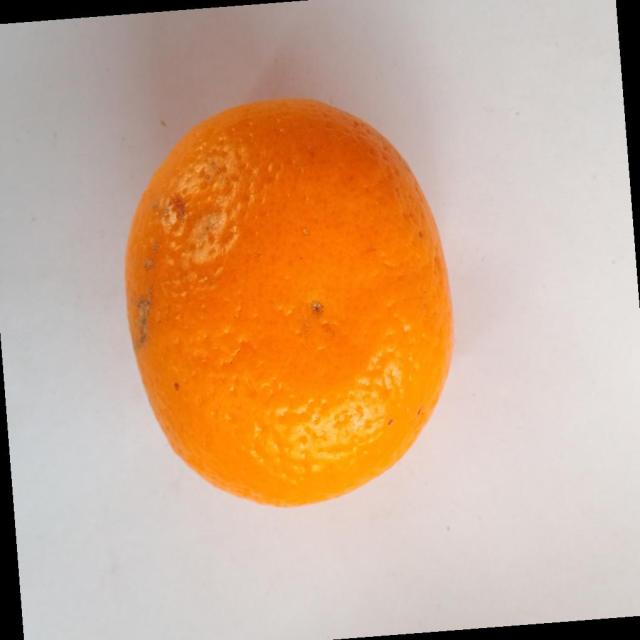fresh orange: (123, 96, 455, 508)
